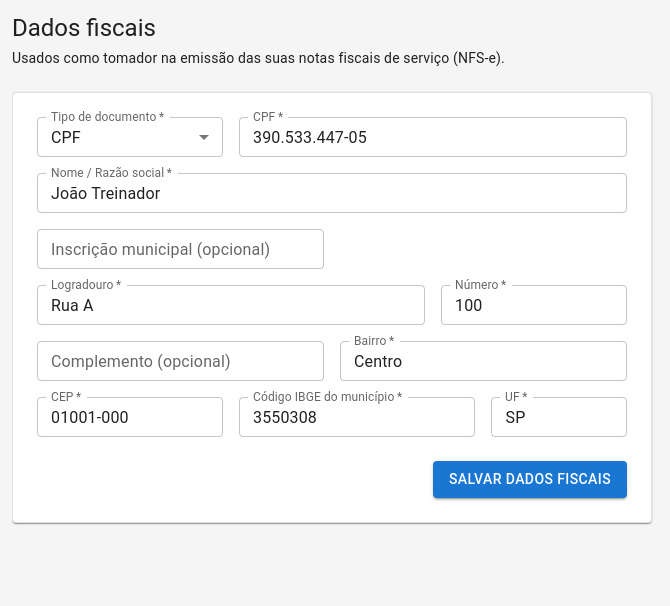
DadosFiscaisTreinadorPage › exibe erro retornado pela API
The width and height of the screenshot is (670, 606).
Expected: the field labelled "Nome / Razão social *" holds "João Treinador", [37,173,627,213]
Click the button "Salvar dados fiscais" at (530, 479), box [433,461,627,498]
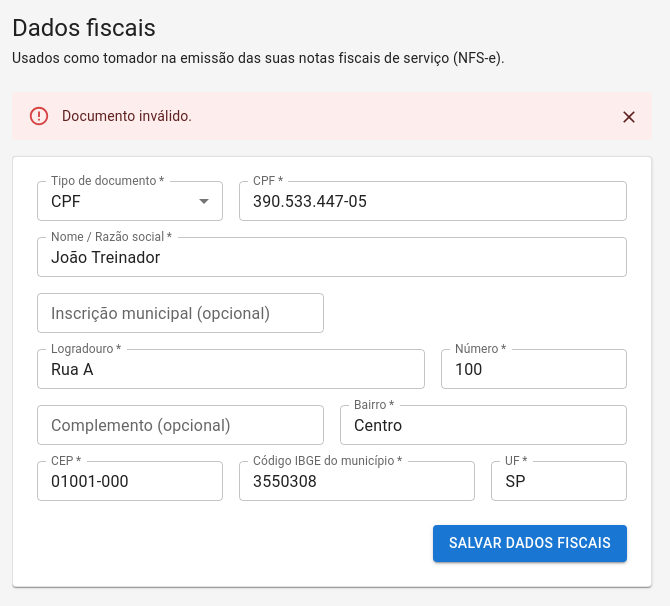
Now the text "Documento inválido." is shown, box [62,108,192,124]
